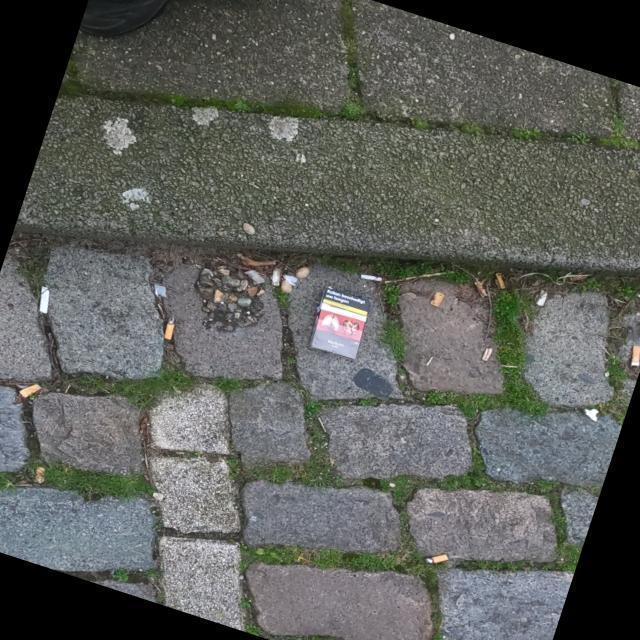Paper: (304, 284, 372, 364)
